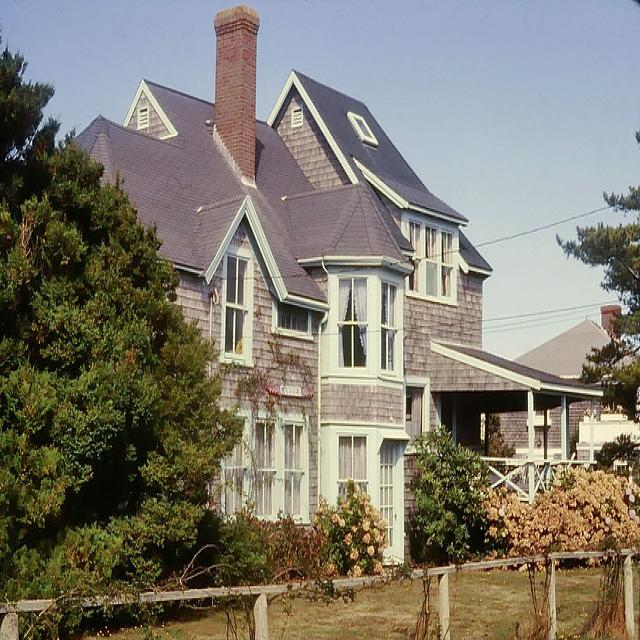Normal_building: (42, 9, 496, 571)
